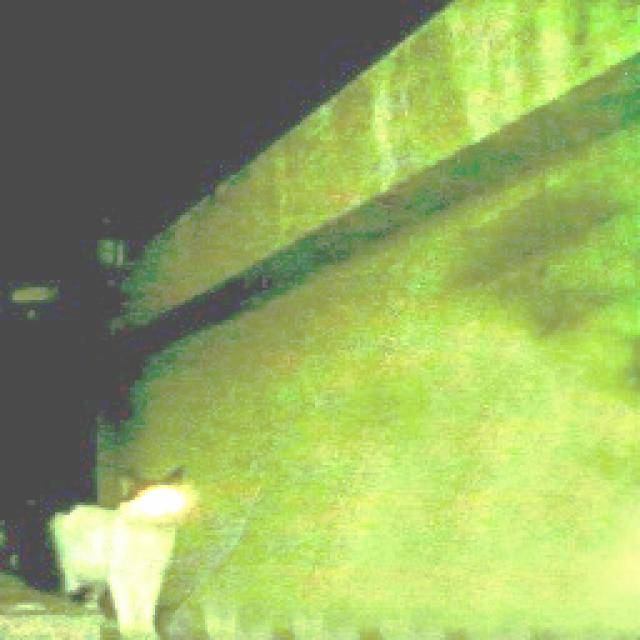cat: (23, 446, 203, 640)
